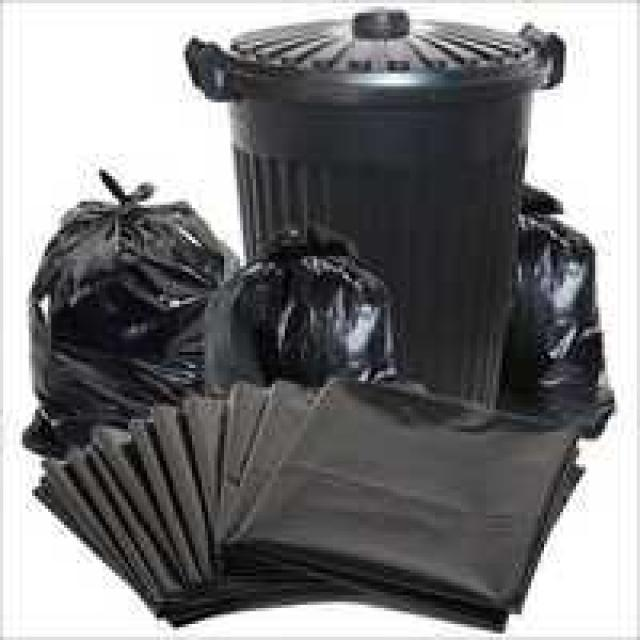Trashbag: (20, 197, 260, 459), (488, 180, 618, 443), (217, 258, 399, 392)
